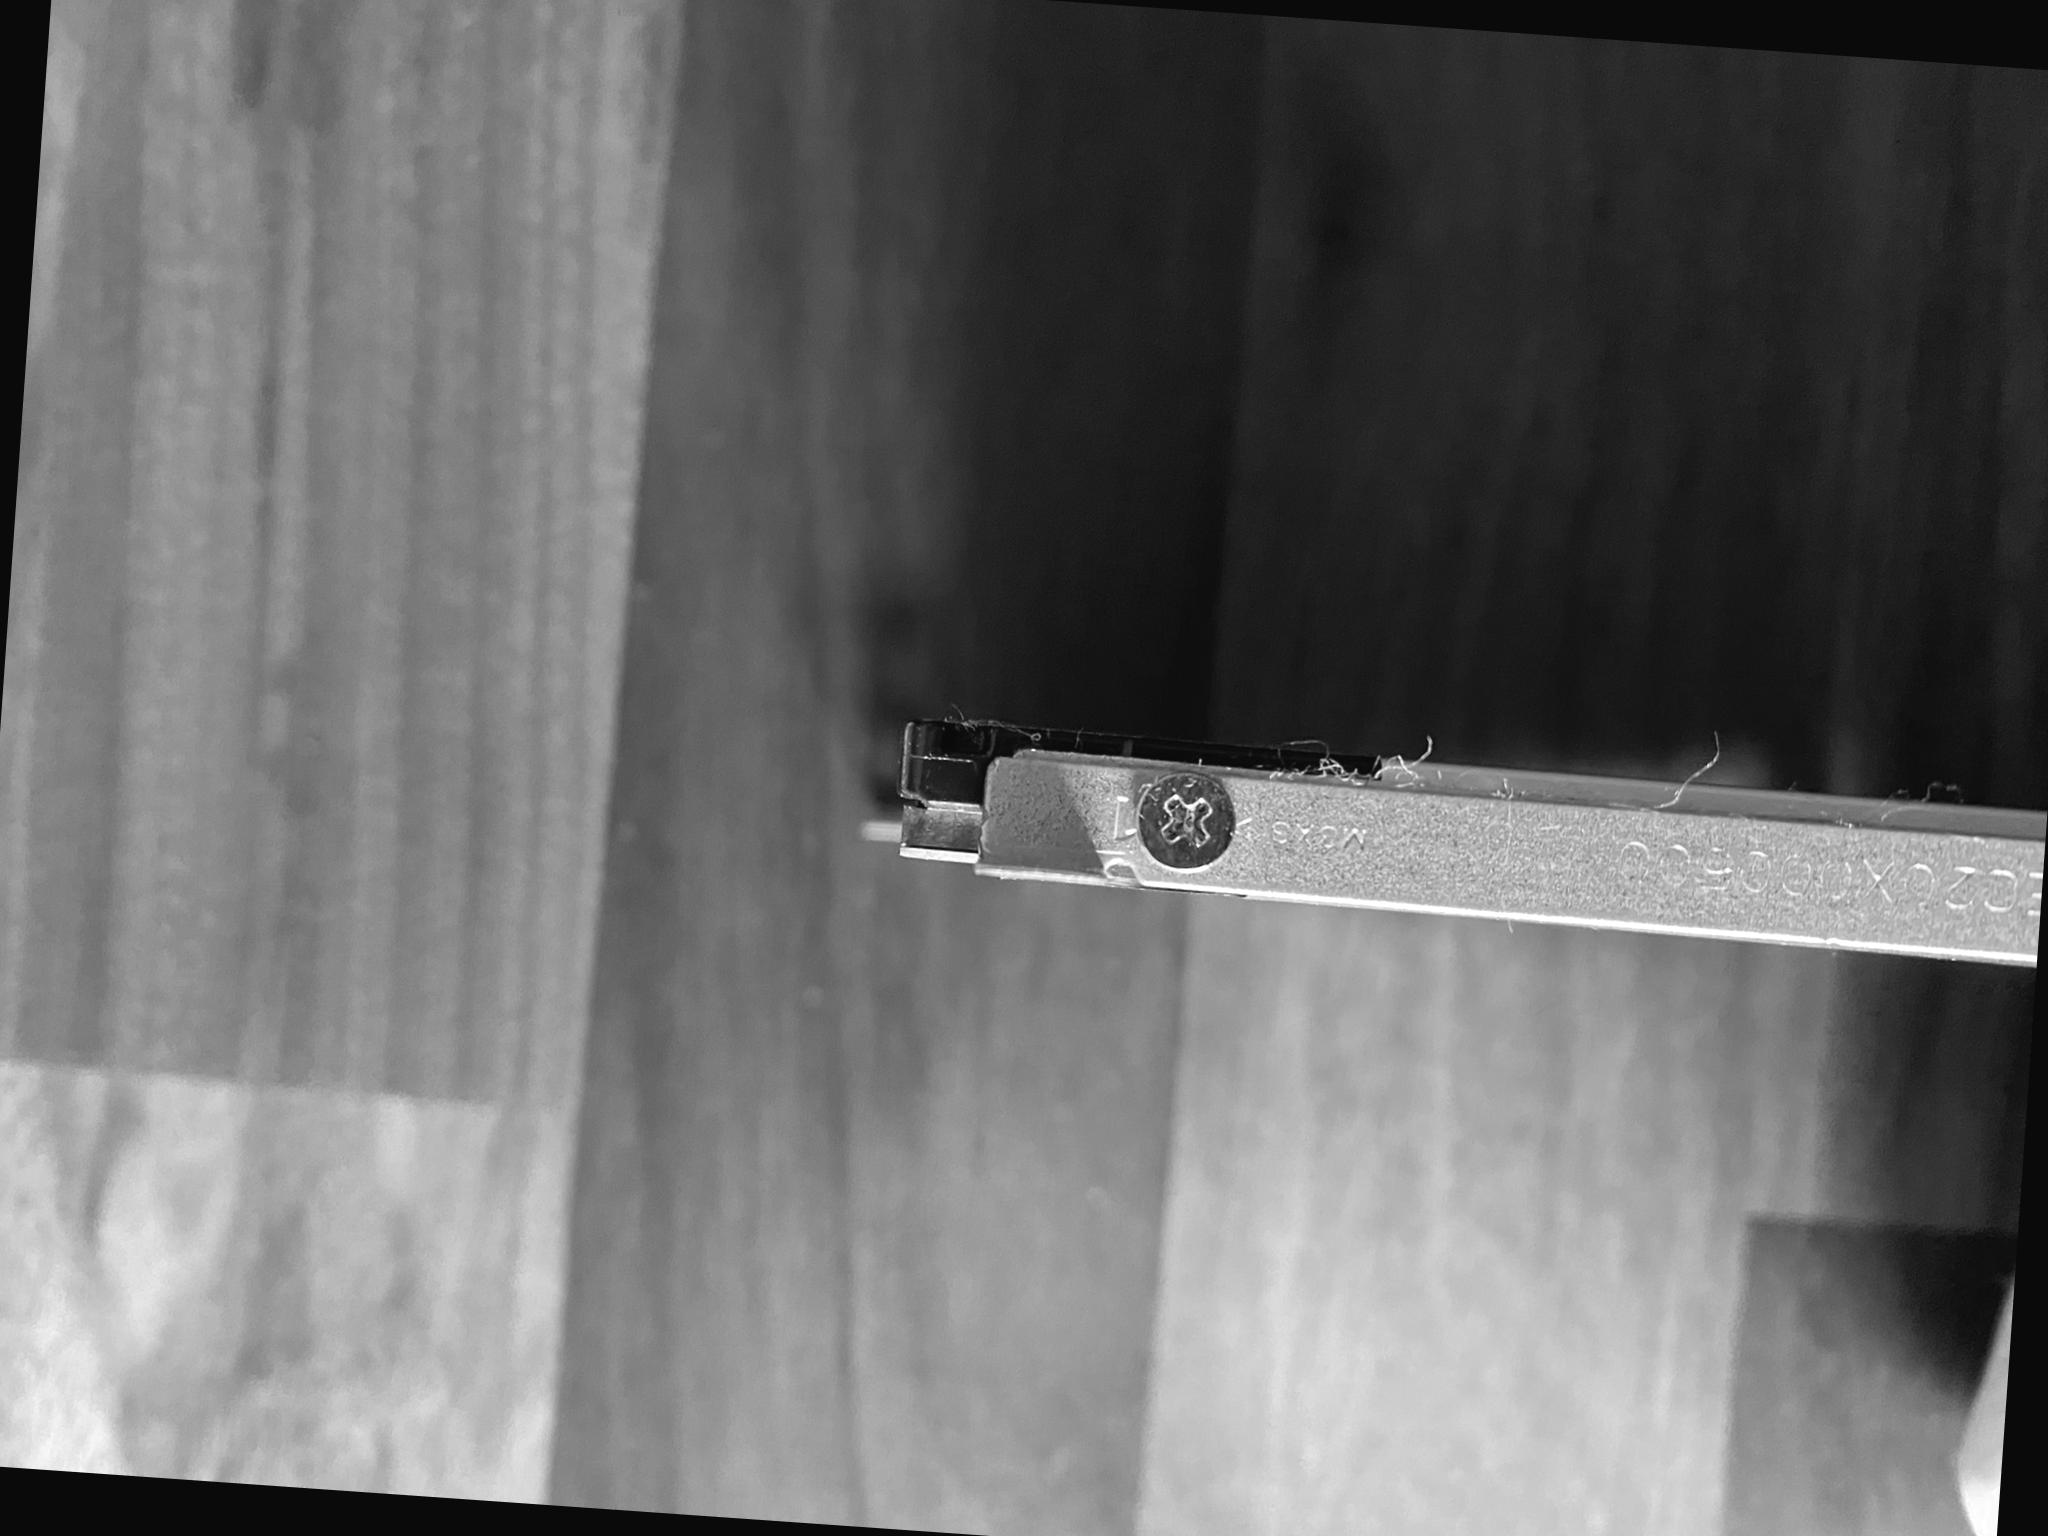philips-PZ: (1127, 762, 1247, 878)
